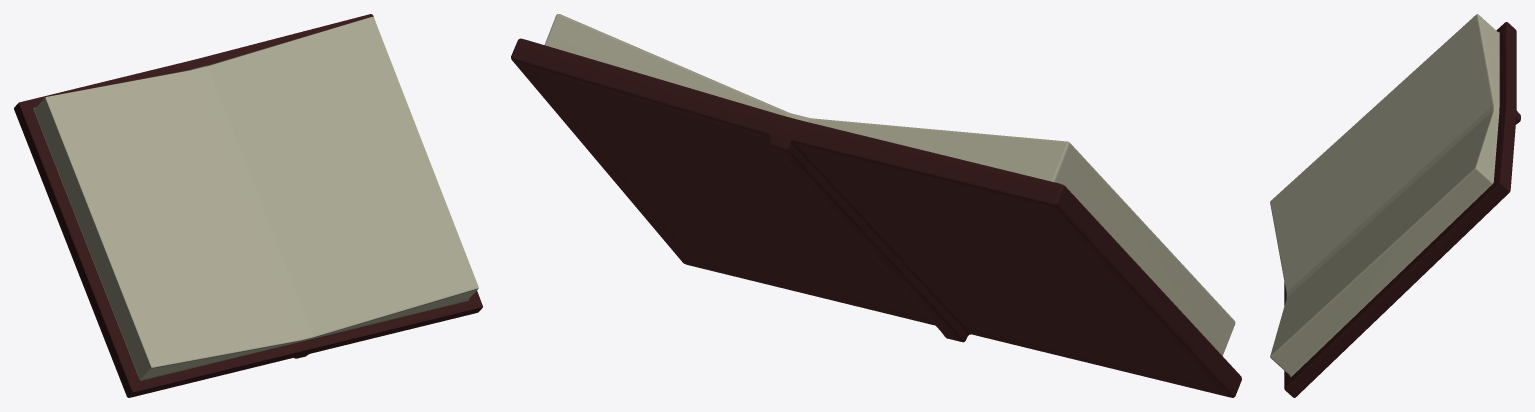
Rendered from wineMenuFinal.fbx.
3 views of the same model, side by side, from view 1: azimuth 30°, elevation 25°; view 2: azimuth 150°, elevation 25°; view 3: azimuth 270°, elevation 25° (orthographic). The views are drawn at different scales.
Visible parts, largest first — view 1: wineMenuDetailed; view 2: wineMenuDetailed; view 3: wineMenuDetailed.
Boxes of the visible parts, x1,y1,x2,y2 form: wineMenuDetailed: (14, 14, 482, 397); wineMenuDetailed: (511, 14, 1241, 397); wineMenuDetailed: (1270, 14, 1520, 397).
Bounding box in the file's own units: 0.9588 × 0.6112 × 0.6072.
